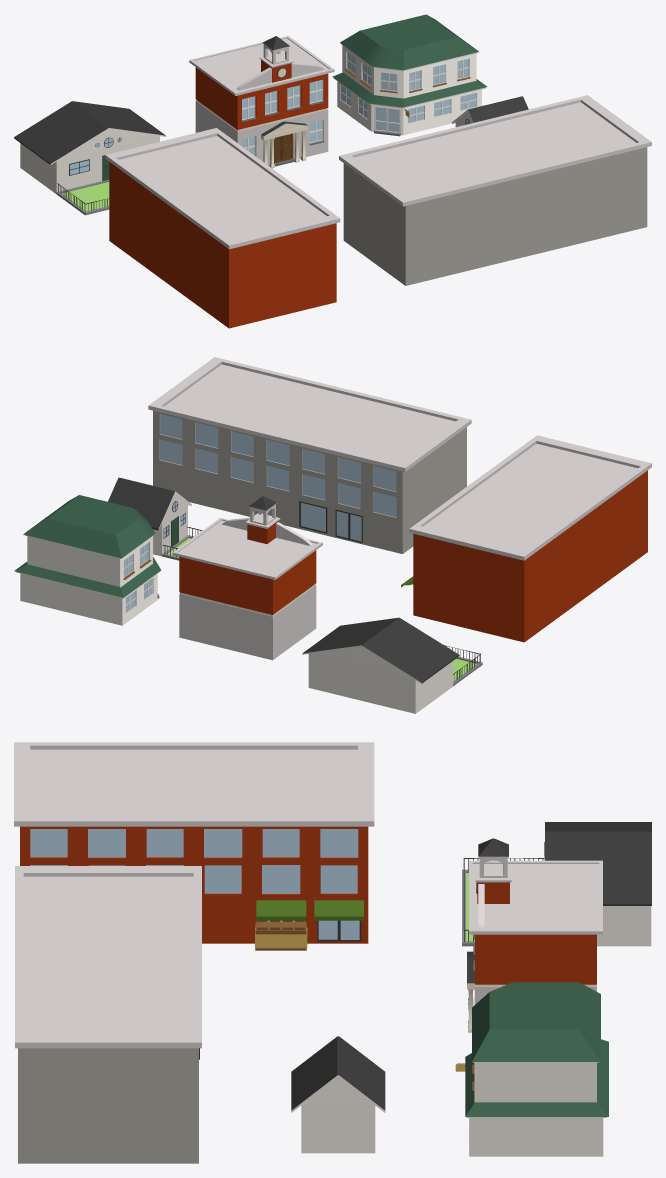
The model's file is Blocking houses.fbx.
The picture shows the model from 3 angles, top to bottom: view 1: azimuth 30°, elevation 25°; view 2: azimuth 150°, elevation 25°; view 3: azimuth 270°, elevation 25°; orthographic projection. The views are drawn at different scales.
Parts seen in each view (by area): view 1: Gym, Green Grocery, Town hall, Cafe, House.001, House; view 2: Gym, Green Grocery, Town hall, Cafe, House.001, House; view 3: Green Grocery, Gym, Cafe, Town hall, House.001, House.
Boxes of the visible parts, x1=… form: Gym: x1=339, y1=95, x2=651, y2=285; Green Grocery: x1=105, y1=128, x2=340, y2=328; Town hall: x1=189, y1=36, x2=334, y2=168; Cafe: x1=332, y1=14, x2=487, y2=136; House.001: x1=14, y1=101, x2=166, y2=215; House: x1=452, y1=96, x2=528, y2=126; Gym: x1=148, y1=357, x2=471, y2=553; Green Grocery: x1=401, y1=435, x2=651, y2=642; Town hall: x1=172, y1=496, x2=322, y2=660; Cafe: x1=14, y1=495, x2=160, y2=625; House.001: x1=302, y1=617, x2=482, y2=713; House: x1=108, y1=477, x2=202, y2=560; Green Grocery: x1=14, y1=742, x2=374, y2=950; Gym: x1=15, y1=866, x2=201, y2=1163; Cafe: x1=455, y1=982, x2=608, y2=1156; Town hall: x1=467, y1=838, x2=602, y2=1032; House.001: x1=462, y1=822, x2=651, y2=946; House: x1=291, y1=1036, x2=385, y2=1153.
Bounding box in the file's own units: 4368 × 1212 × 3918.
